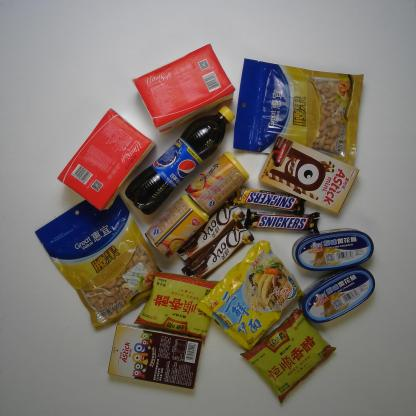Canned Food: (181, 147, 253, 218), (297, 264, 380, 323), (141, 194, 213, 260), (286, 222, 376, 273)
Chocolate: (174, 200, 246, 263), (180, 222, 255, 281), (241, 205, 324, 239), (228, 182, 309, 216)
Dessert: (258, 132, 362, 215), (102, 317, 204, 393)
Dried Fruit: (28, 196, 170, 334), (232, 52, 370, 168)
Drink: (123, 101, 236, 219)
Instant Noodles: (197, 236, 301, 351)
Seasoner: (238, 302, 340, 408), (132, 264, 226, 341)
Tissue: (55, 107, 155, 216), (133, 39, 239, 138)
